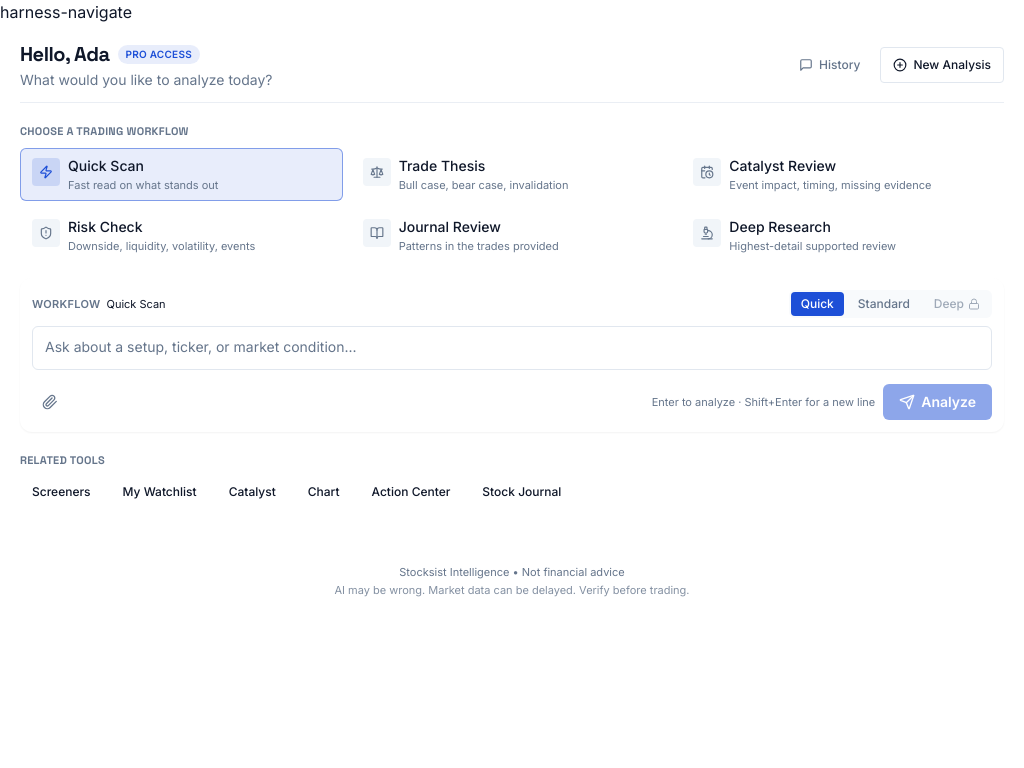
Test case: AI Analyst — simplified layout › opens History as an overlay dialog without replacing the workspace
Click the button "History": (830, 65) top-left (787, 47), bottom-right (872, 83)
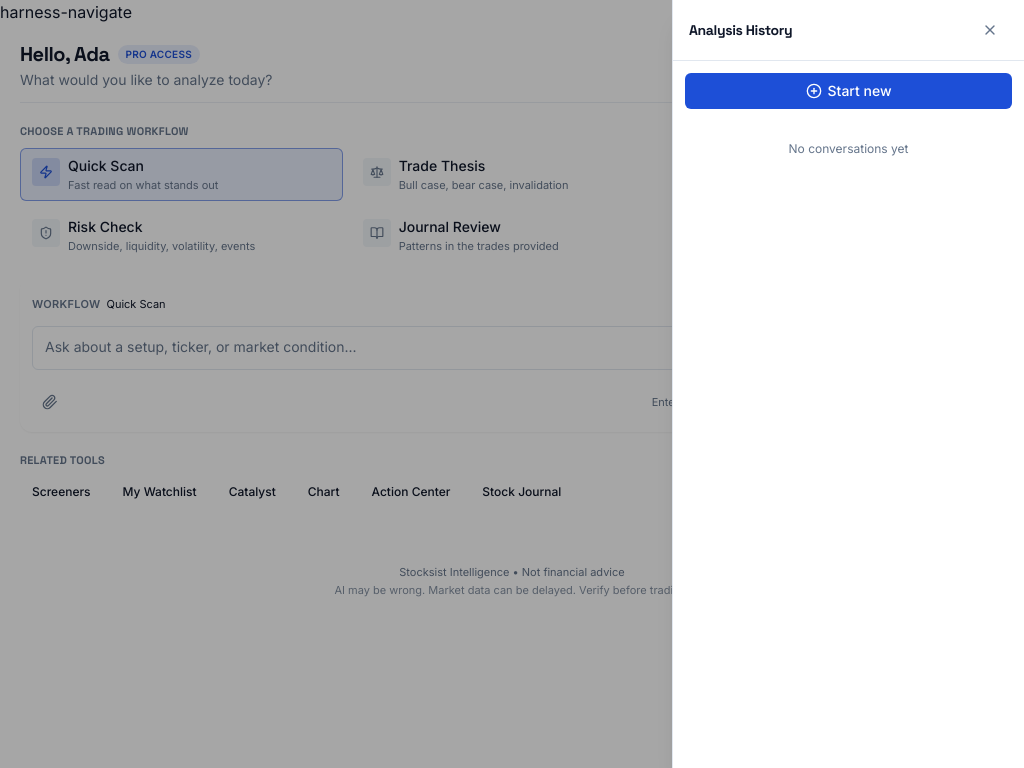
Expected: the heading "Hello, Ada" is shown, top-left (20, 40), bottom-right (110, 68)
Expected: the dialog "Analysis History Start new No conversations yet" is shown, top-left (672, 0), bottom-right (1023, 767)
Press Escape
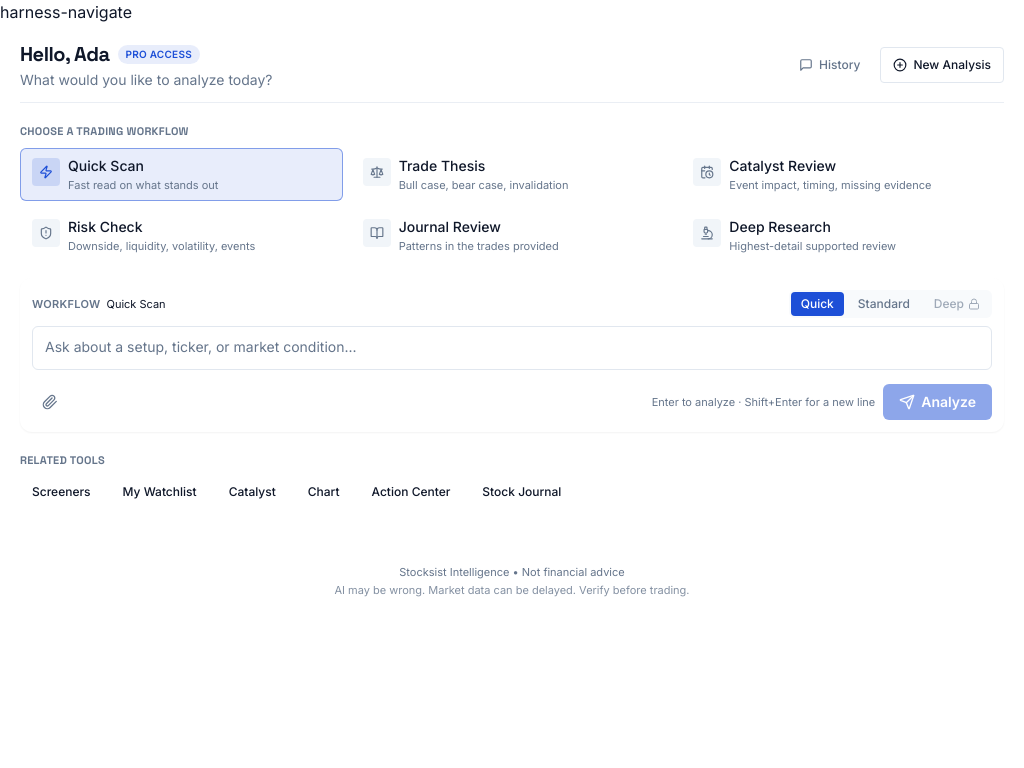
Expected: the heading "Analysis History" is gone
